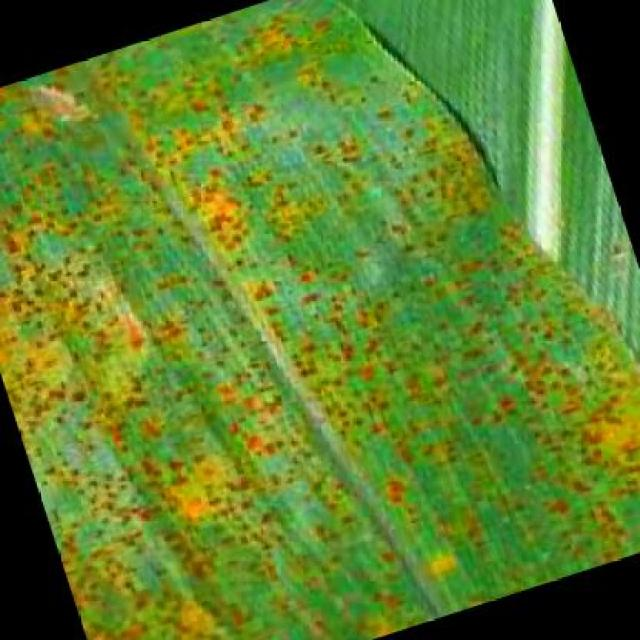Corn_Rust: (67, 71, 578, 574)
